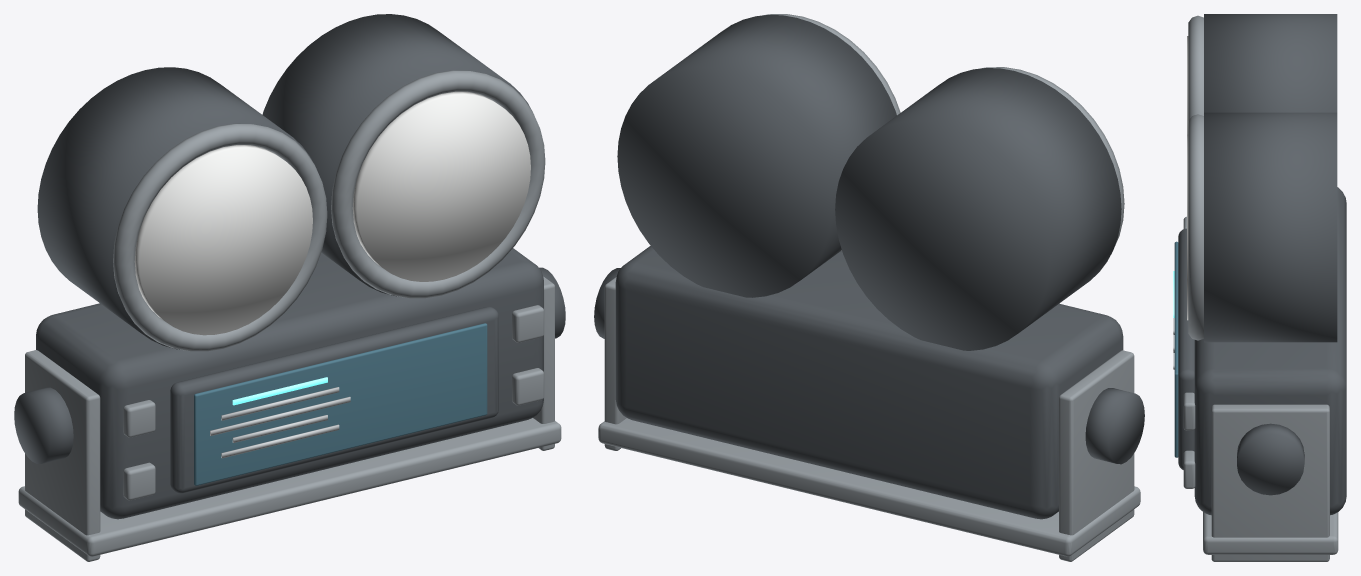
Rendered from mobile-speed-enforcement-system.glb.
The picture shows the model from 3 angles, left to right: view 1: azimuth 30°, elevation 25°; view 2: azimuth 150°, elevation 25°; view 3: azimuth 270°, elevation 25°; orthographic projection. The views are drawn at different scales.
Parts seen in each view (by area): view 1: Rugged_Enclosure_0001, Radome_0018, Radome_0015, Panel_0003, Housing_0013, Housing_0016, Mount_0019, Front_Ring_0017, Front_Ring_0014, Bezel_0002, Side_0020, Knob_0021 (+8 smaller); view 2: Rugged_Enclosure_0001, Housing_0013, Housing_0016, Mount_0019, Side_0020, Knob_0021, Side_0022, Front_Ring_0014, Front_Ring_0017; view 3: Housing_0016, Rugged_Enclosure_0001, Housing_0013, Side_0022, Knob_0023, Front_Ring_0017, Mount_0019, Bezel_0002, Front_Ring_0014, Panel_0003, Key_0011, Key_0012 (+1 smaller).
Part boxes in pixels (left/top/right/bottom): Rugged_Enclosure_0001: left=36, top=248, right=543, bottom=519; Radome_0018: left=352, top=91, right=530, bottom=281; Radome_0015: left=134, top=145, right=312, bottom=335; Panel_0003: left=194, top=323, right=487, bottom=485; Housing_0013: left=37, top=67, right=312, bottom=349; Housing_0016: left=262, top=14, right=530, bottom=296; Mount_0019: left=18, top=418, right=561, bottom=556; Front_Ring_0017: left=331, top=70, right=545, bottom=298; Front_Ring_0014: left=113, top=123, right=327, bottom=351; Bezel_0002: left=170, top=306, right=498, bottom=493; Side_0020: left=25, top=350, right=100, bottom=561; Knob_0021: left=14, top=387, right=73, bottom=463; Rugged_Enclosure_0001: left=615, top=245, right=1123, bottom=519; Housing_0013: left=835, top=68, right=1121, bottom=350; Housing_0016: left=617, top=15, right=896, bottom=297; Mount_0019: left=598, top=418, right=1140, bottom=556; Side_0020: left=1059, top=350, right=1134, bottom=561; Knob_0021: left=1085, top=388, right=1144, bottom=464; Side_0022: left=604, top=277, right=626, bottom=450; Front_Ring_0014: left=980, top=67, right=1124, bottom=254; Front_Ring_0017: left=762, top=14, right=900, bottom=115; Housing_0016: left=1204, top=112, right=1337, bottom=342; Rugged_Enclosure_0001: left=1194, top=187, right=1346, bottom=515; Housing_0013: left=1204, top=14, right=1337, bottom=112; Side_0022: left=1211, top=404, right=1329, bottom=561; Knob_0023: left=1237, top=423, right=1304, bottom=495; Front_Ring_0017: left=1188, top=114, right=1203, bottom=340; Mount_0019: left=1203, top=512, right=1338, bottom=554; Bezel_0002: left=1178, top=228, right=1194, bottom=469; Front_Ring_0014: left=1188, top=15, right=1203, bottom=120; Panel_0003: left=1174, top=241, right=1178, bottom=457; Key_0011: left=1183, top=450, right=1195, bottom=488; Key_0012: left=1183, top=392, right=1195, bottom=430.
Bounding box in the file's own units: 0.3262 × 0.25 × 0.1027.
